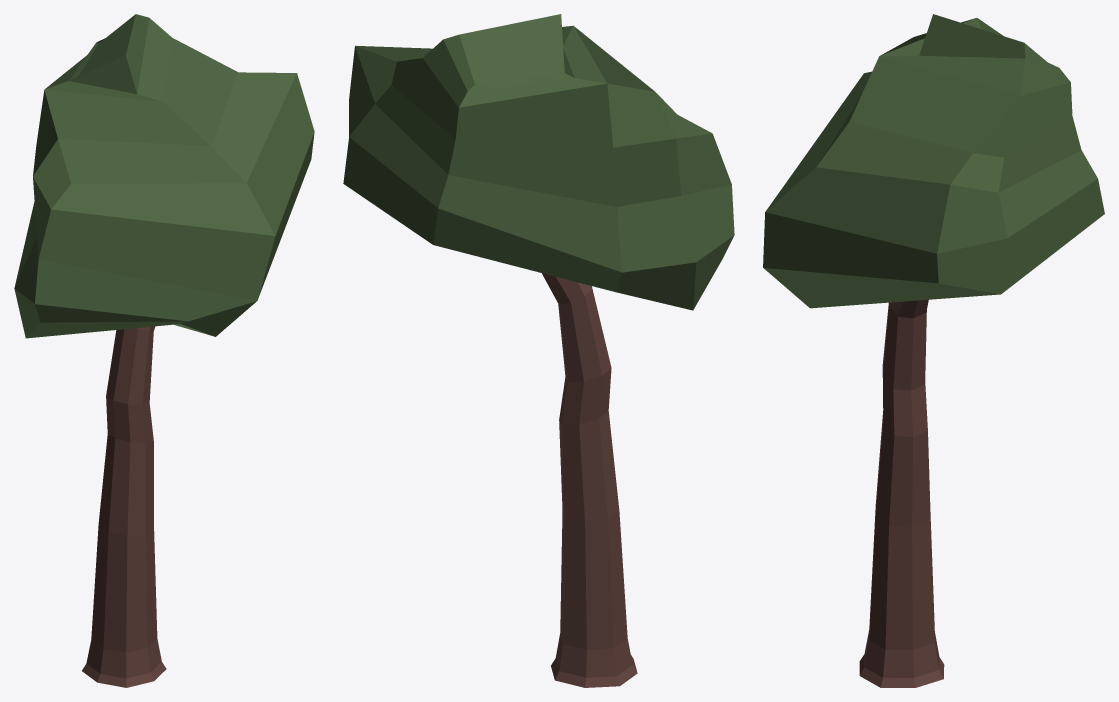
The model's file is Apple_2.gltf.
3 views of the same model, side by side, from view 1: azimuth 30°, elevation 25°; view 2: azimuth 150°, elevation 25°; view 3: azimuth 270°, elevation 25° (orthographic). The views are drawn at different scales.
Visible parts, largest first — view 1: Apple_2; view 2: Apple_2; view 3: Apple_2.
Part boxes in pixels (x1=…): Apple_2: x1=14, y1=14, x2=314, y2=687; Apple_2: x1=343, y1=14, x2=734, y2=687; Apple_2: x1=763, y1=14, x2=1104, y2=687.
Size of the model in its own units: 0.5149 by 0.9389 by 0.4378.
